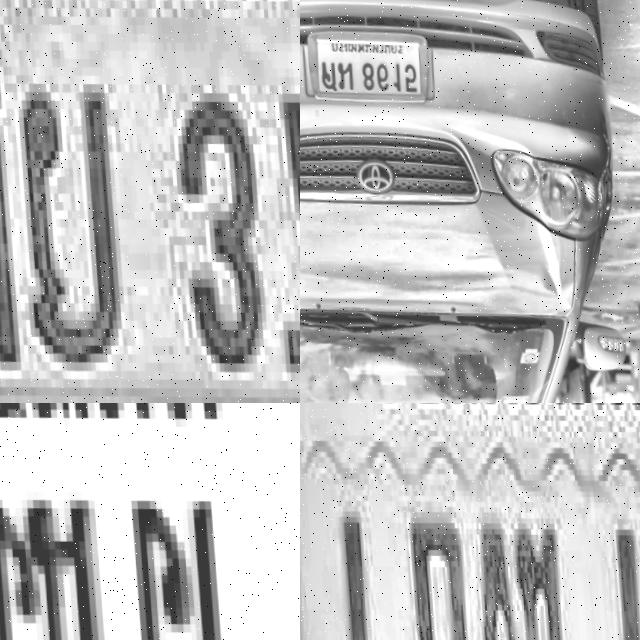license-plate: (0, 0, 300, 403), (300, 403, 640, 640), (0, 403, 300, 640), (305, 21, 431, 104)
